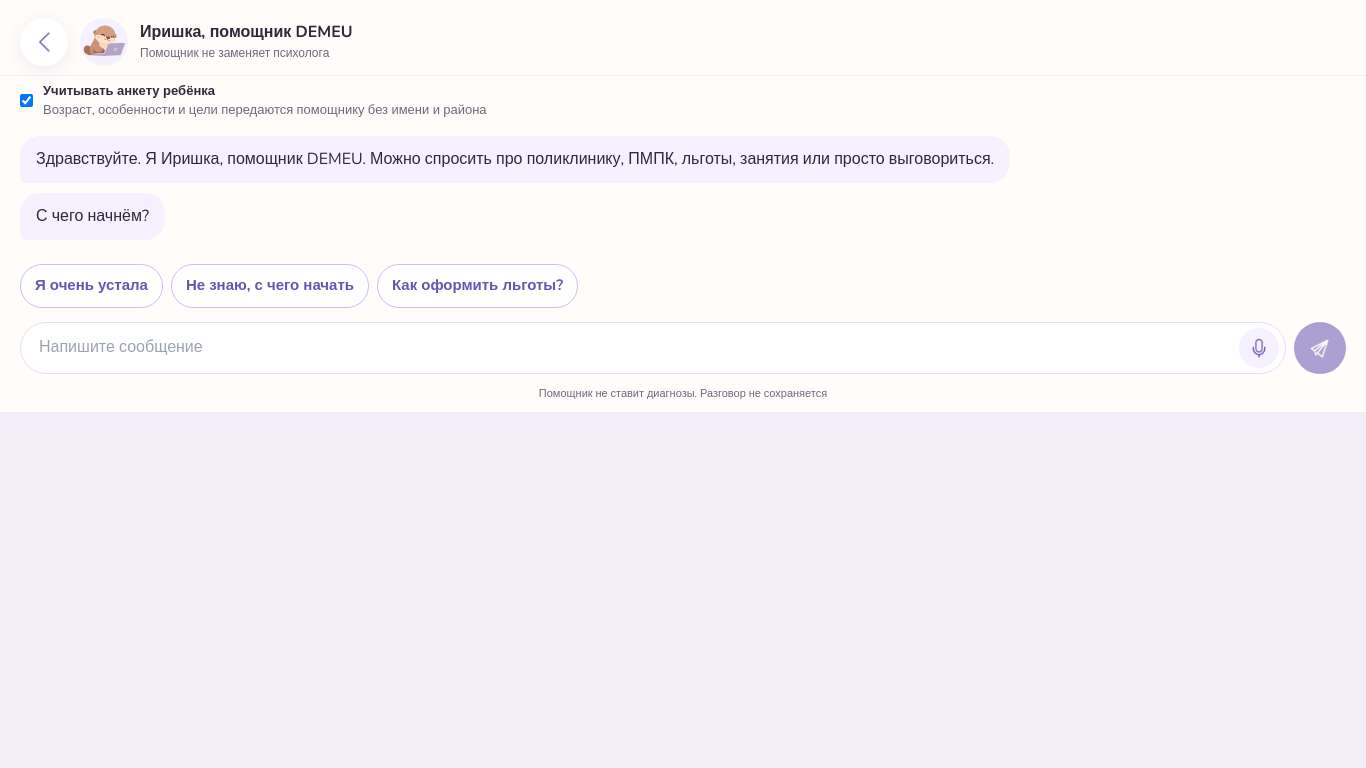
Test: support safety and profile › the card can be switched off, and a failure is an honest message with retry, never a canned reply
Click the checkbox labelled "Учитывать анкету". click: click(26, 101)
box: [20,94,33,107]
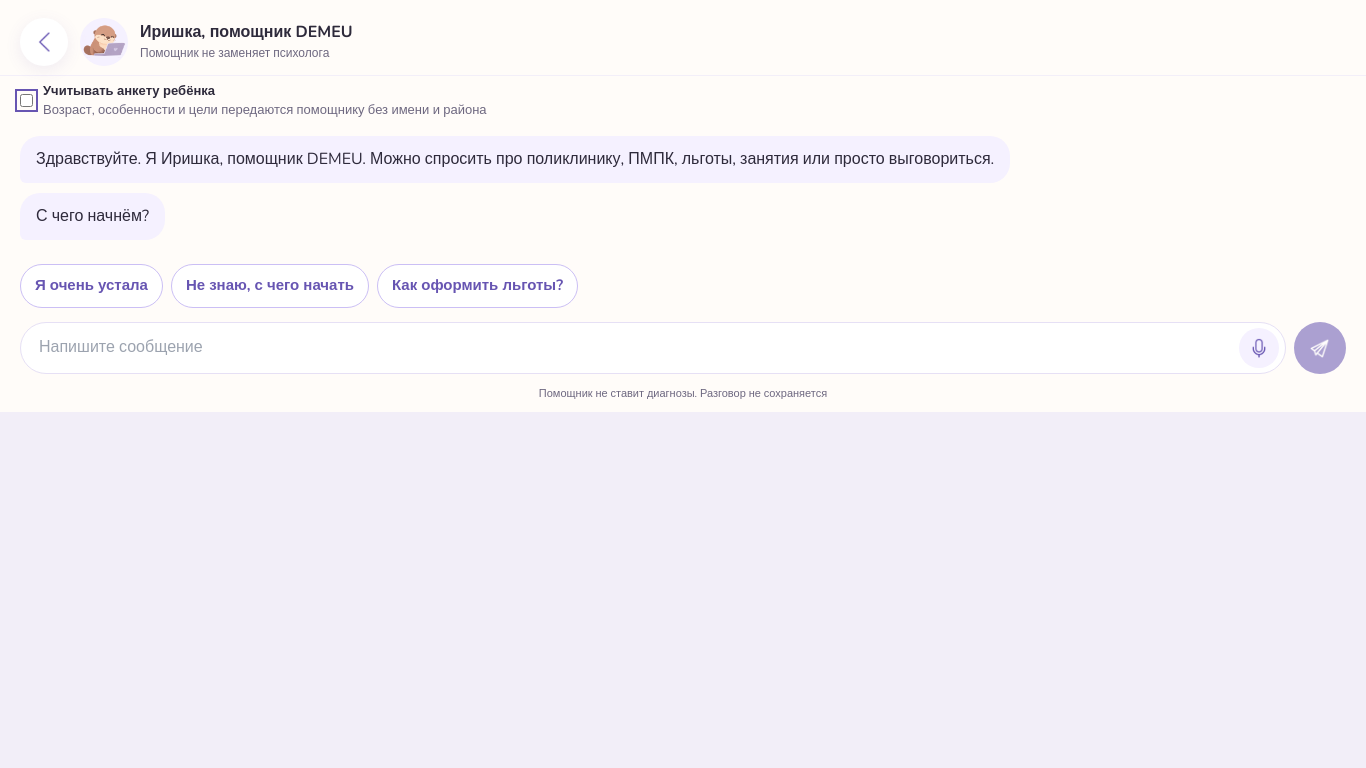
Type "Какие документы нужны на ПМПК?" into the field labelled "Напишите сообщение". click: (636, 348)
box: [39,336,1233,359]
Then press Enter
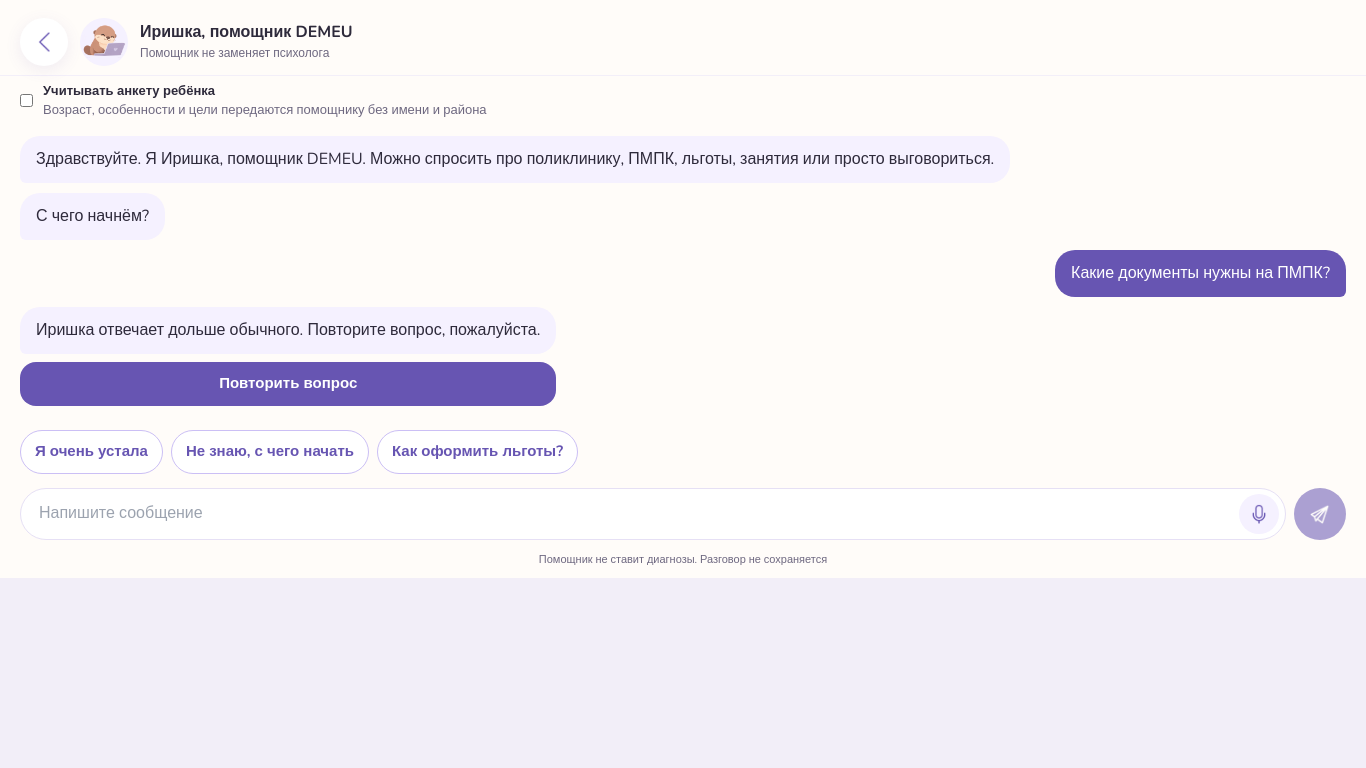
expect the message shows "Иришка отвечает дольше обычного": met, box [36,319,540,341]
Click the button "Повторить вопрос". click: click(288, 384)
box: [20,362,556,406]
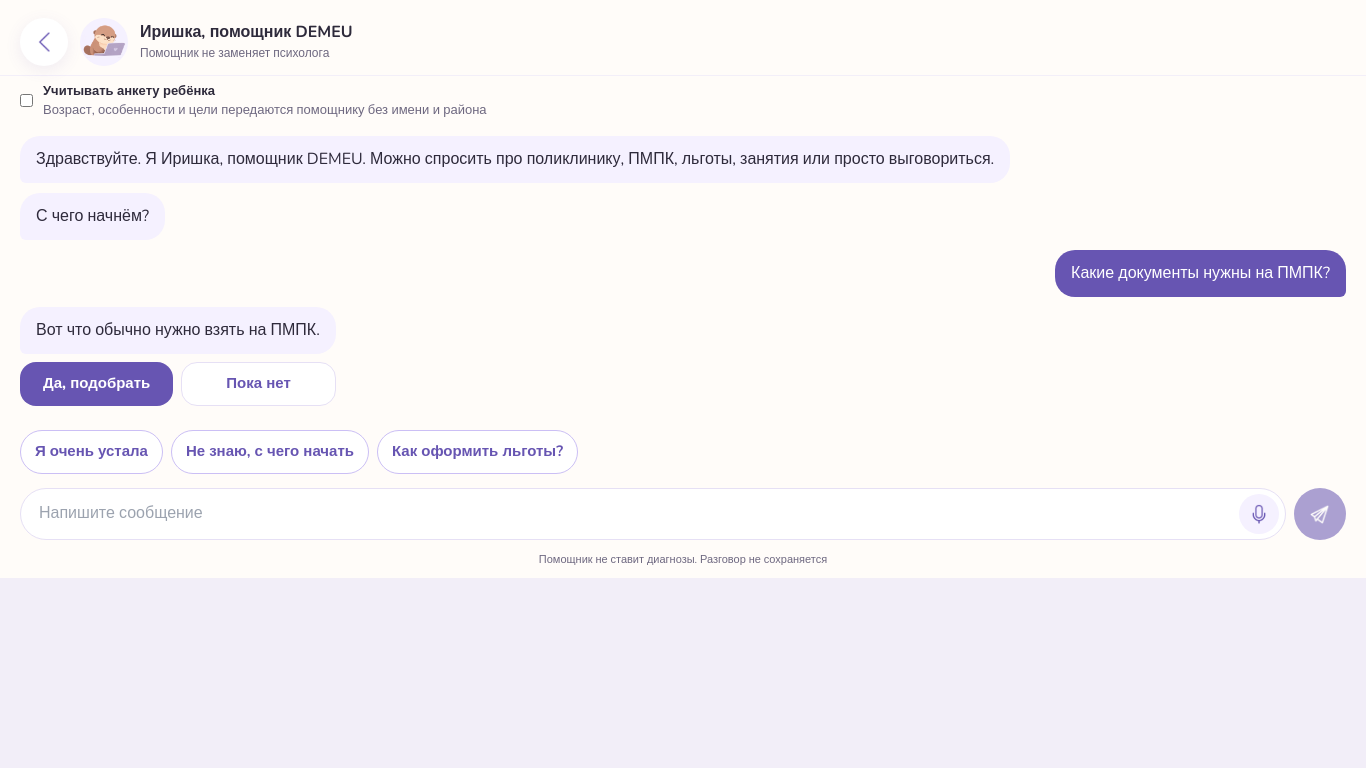
expect the text "Вот что обычно нужно взять на ПМПК." is shown: met, box [20,307,336,354]
